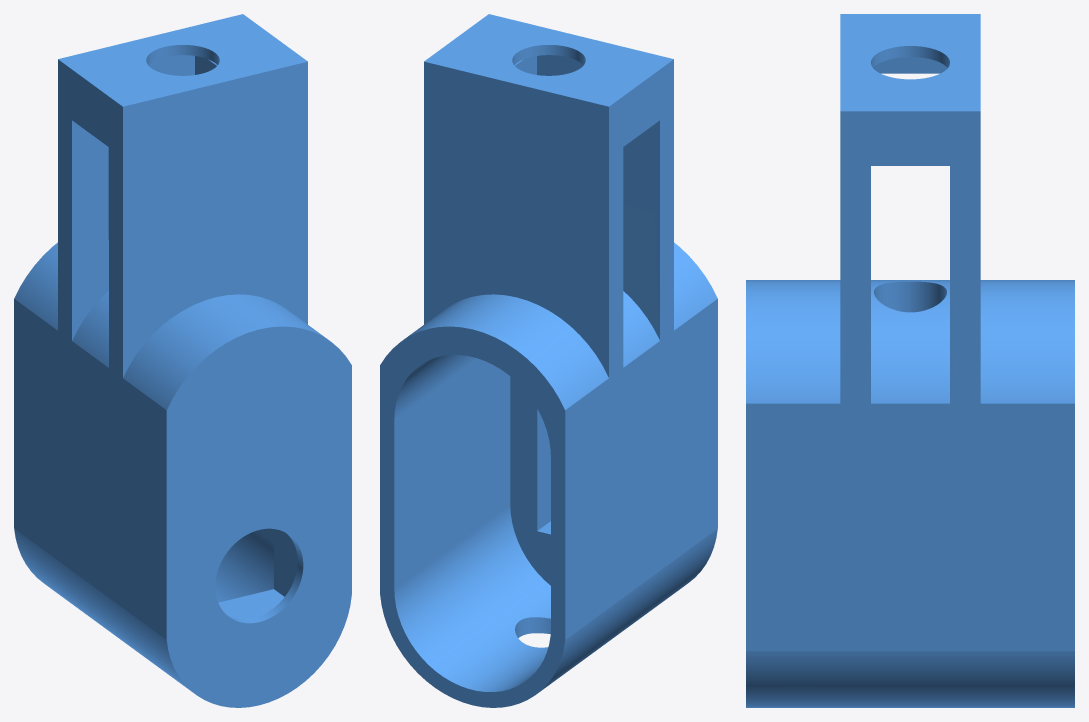
Rendered from UpperArm.glb.
3 views of the same model, side by side, from view 1: azimuth 30°, elevation 25°; view 2: azimuth 150°, elevation 25°; view 3: azimuth 270°, elevation 25° (orthographic). The views are drawn at different scales.
Parts seen in each view (by area): view 1: Arm 02 v3; view 2: Arm 02 v3; view 3: Arm 02 v3.
Boxes of the visible parts, left/top/right/bottom form: Arm 02 v3: left=14, top=14, right=351, bottom=707; Arm 02 v3: left=380, top=14, right=717, bottom=707; Arm 02 v3: left=746, top=14, right=1074, bottom=707.
Size of the model in its own units: 0.0378 by 0.115 by 0.054.
